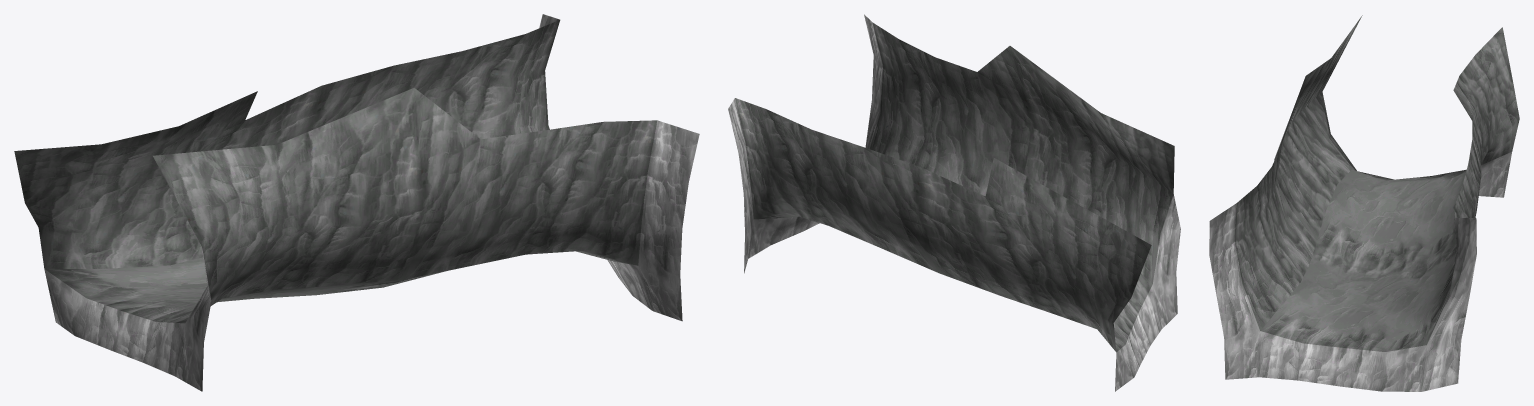
The model's file is SWORDLIGHT20_PS-AREA03_18.fbx.
The picture shows the model from 3 angles, left to right: view 1: azimuth 30°, elevation 25°; view 2: azimuth 150°, elevation 25°; view 3: azimuth 270°, elevation 25°; orthographic projection. The views are drawn at different scales.
Parts seen in each view (by area): view 1: SWORDLIGHT20_PS-AREA03_18; view 2: SWORDLIGHT20_PS-AREA03_18; view 3: SWORDLIGHT20_PS-AREA03_18.
Boxes of the visible parts, x1,y1,x2,y2 form: SWORDLIGHT20_PS-AREA03_18: (14, 14, 699, 391); SWORDLIGHT20_PS-AREA03_18: (728, 14, 1180, 391); SWORDLIGHT20_PS-AREA03_18: (1209, 15, 1519, 391).
Size of the model in its own units: 247963 by 118982 by 151604.
4 materials, 4 textured.
